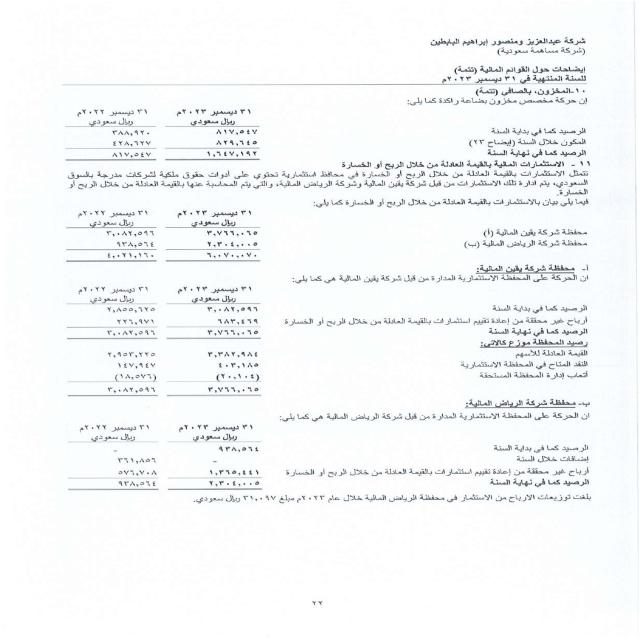notes: (440, 64, 597, 76)
table: (33, 416, 271, 495), (60, 100, 271, 170), (50, 204, 273, 270), (49, 281, 266, 348), (44, 353, 268, 408)
